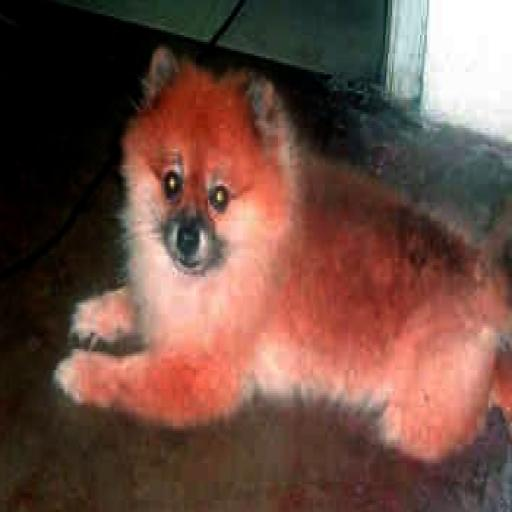dog_face: (130, 47, 275, 263)
